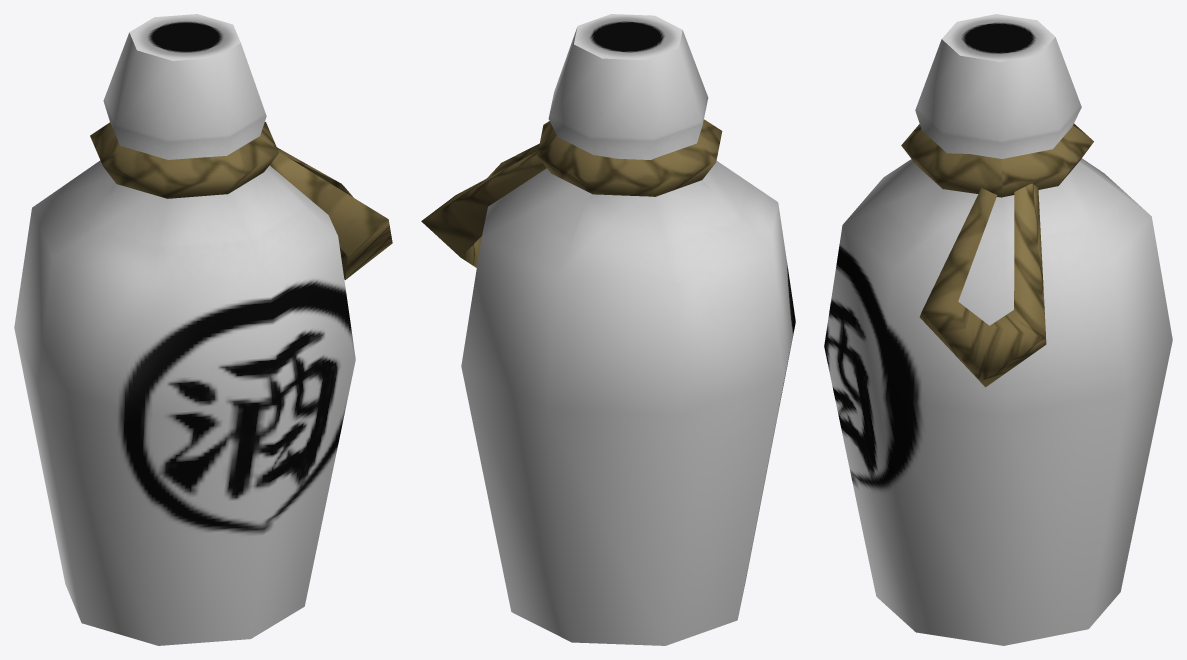
The model's file is sakabin.fbx.
3 views of the same model, side by side, from view 1: azimuth 30°, elevation 25°; view 2: azimuth 150°, elevation 25°; view 3: azimuth 270°, elevation 25° (orthographic).
Parts seen in each view (by area): view 1: sakabin; view 2: sakabin; view 3: sakabin.
Part boxes in pixels (x1=…): sakabin: x1=14, y1=14, x2=392, y2=645; sakabin: x1=421, y1=14, x2=795, y2=645; sakabin: x1=824, y1=14, x2=1172, y2=645.
Bounding box in the file's own units: 2.14 × 3.26 × 1.85.
1 material, 1 textured.
